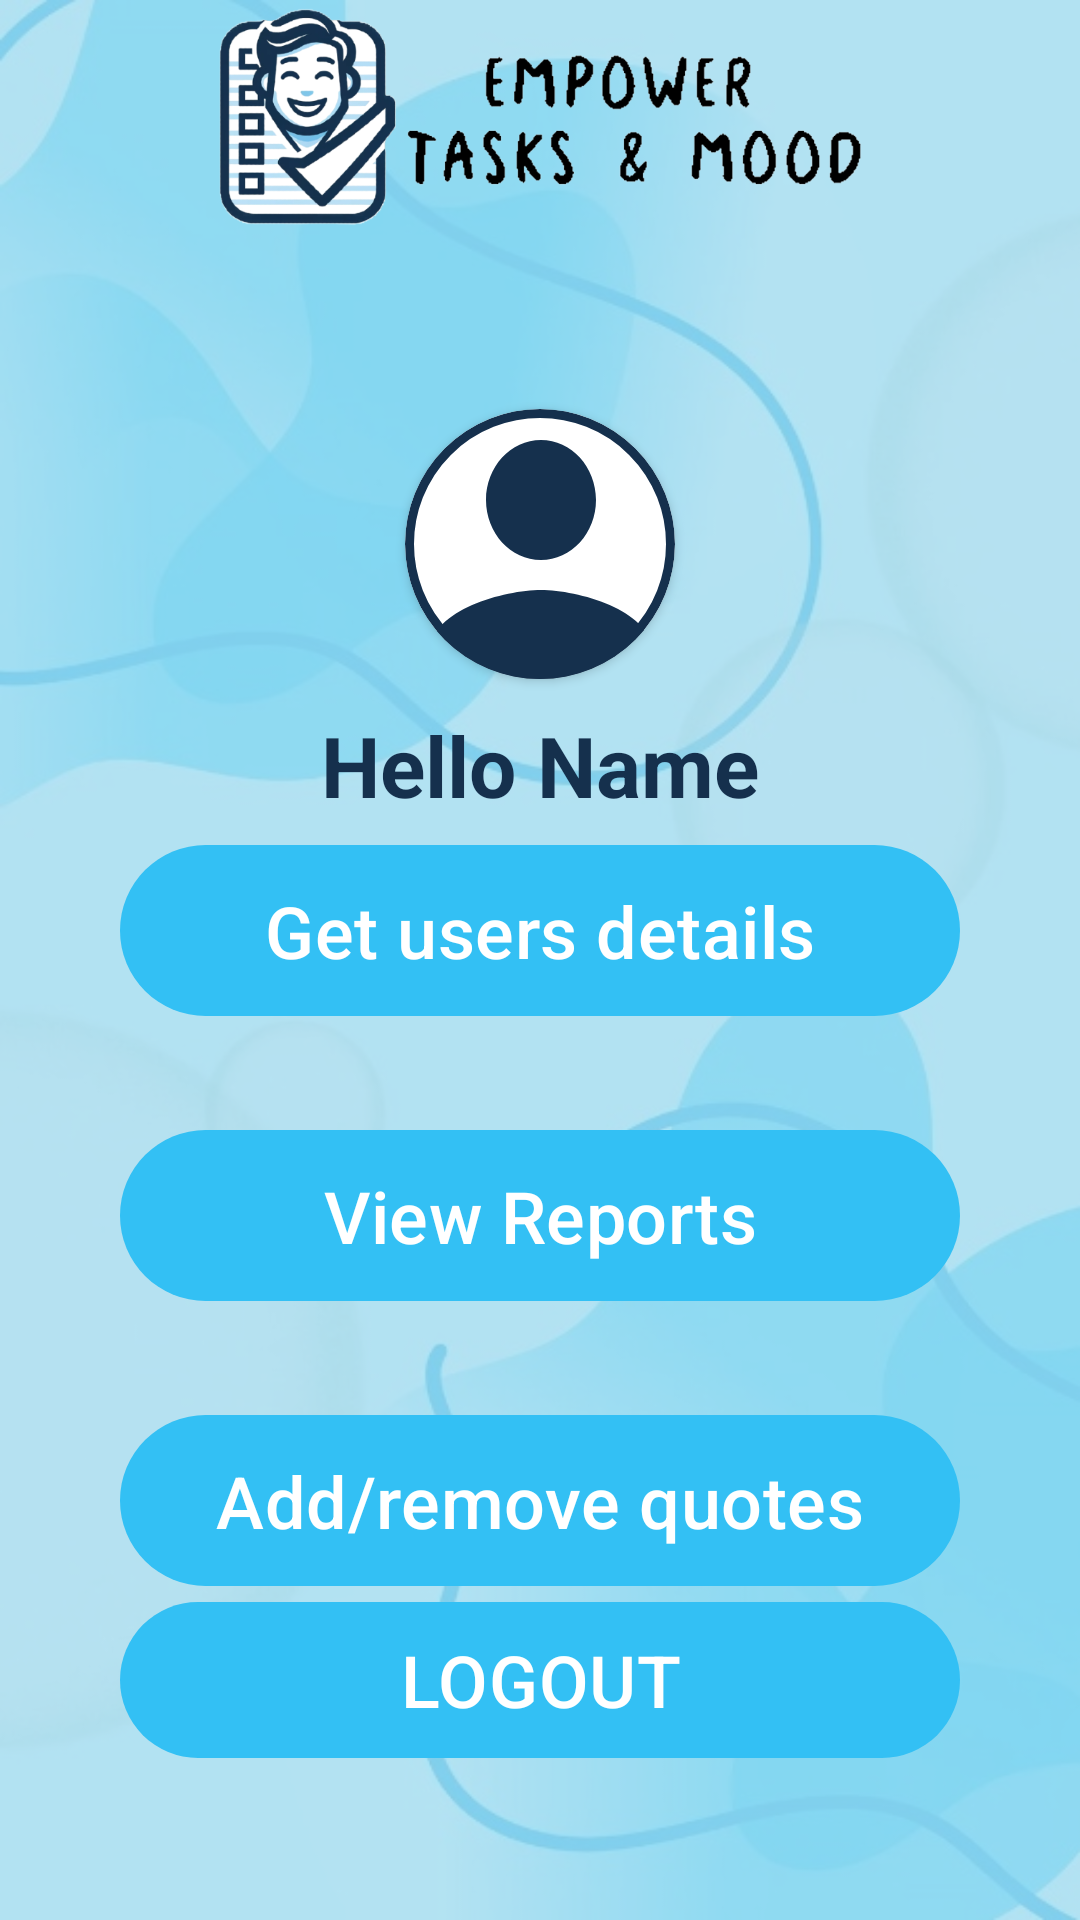

Icons on this 1080 x 1920 Android screen, each with the point to tap as (x=x, y=y):
profile cercle: (x=540, y=544)
